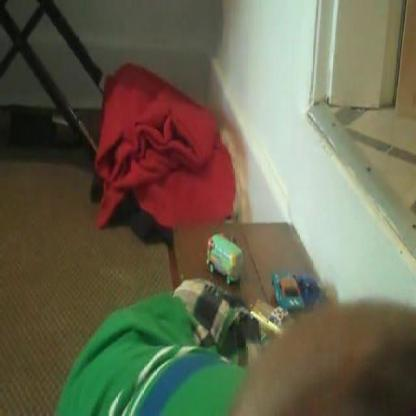other: (92, 72, 255, 227), (252, 286, 301, 334)
